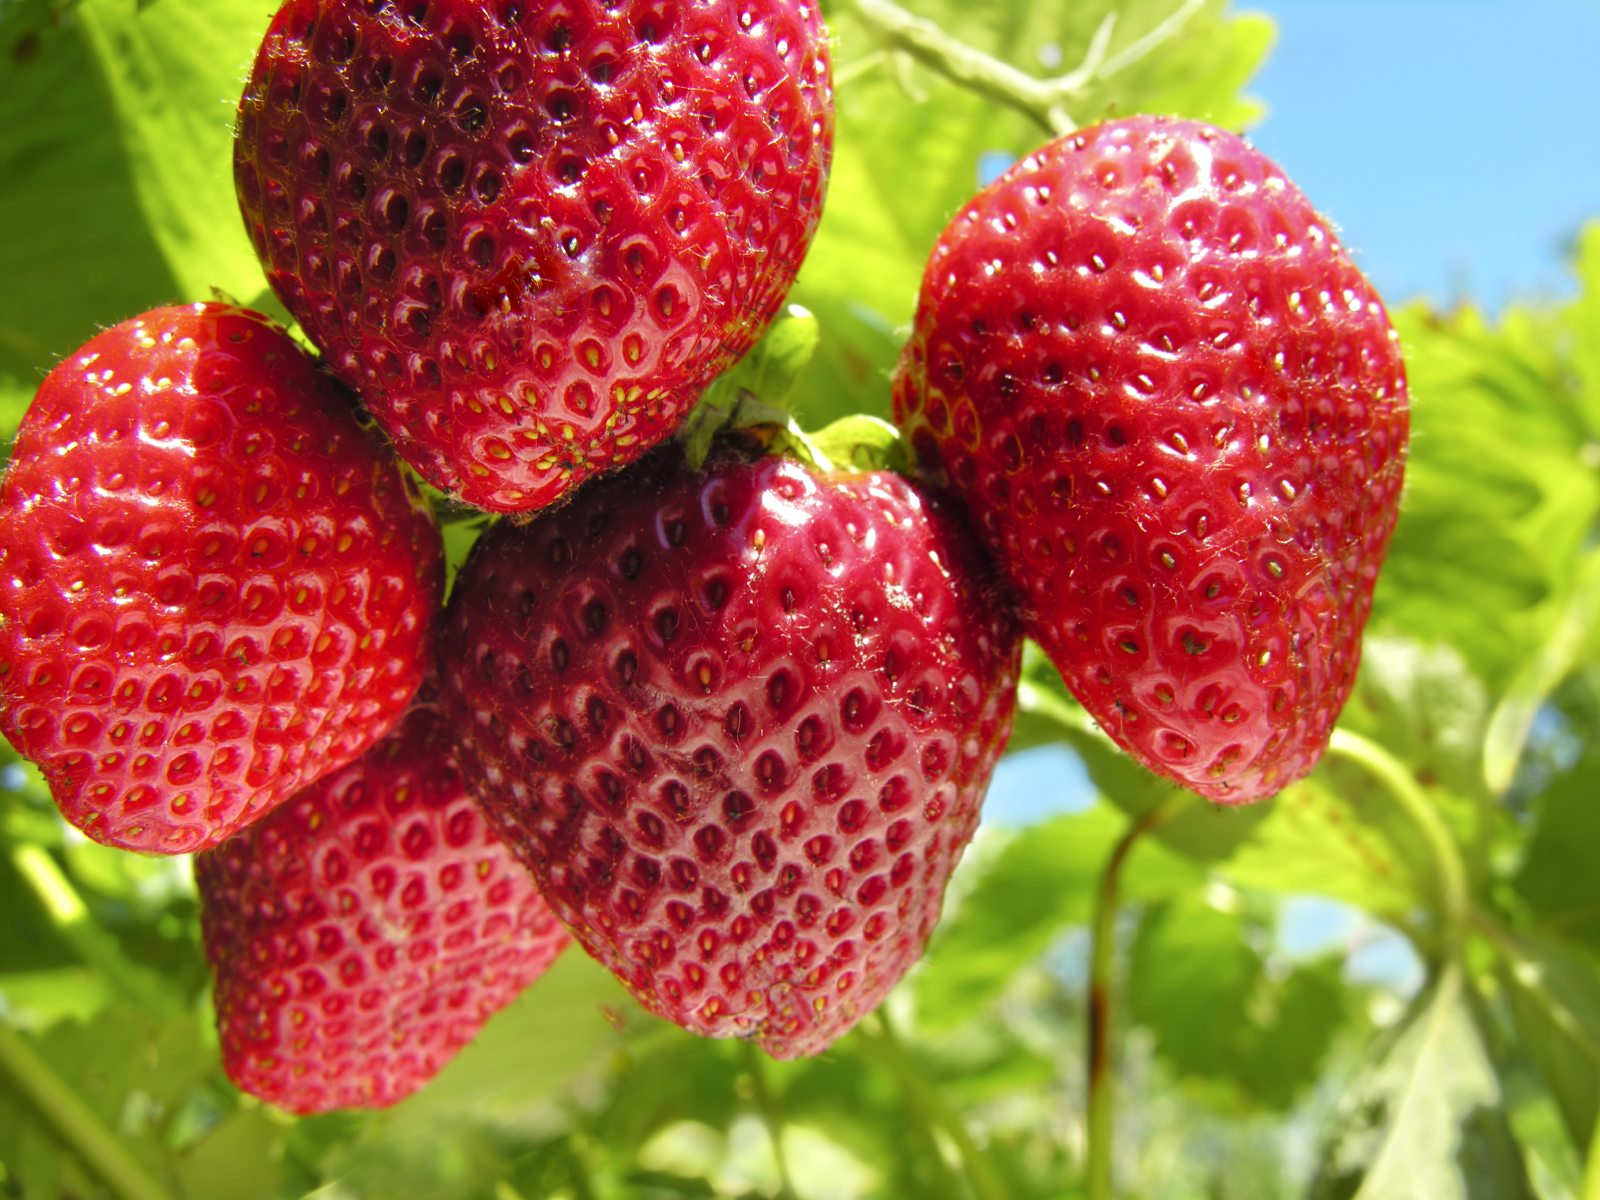ripe: (879, 111, 1417, 814), (447, 418, 1020, 1059), (233, 0, 850, 516), (0, 300, 449, 861), (183, 589, 603, 1119)
